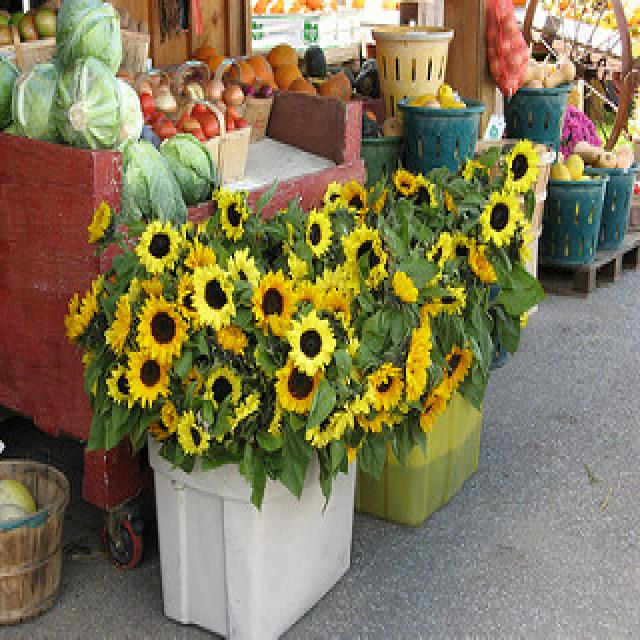sunflower: (326, 224, 394, 288), (132, 298, 188, 362), (250, 272, 306, 336), (188, 259, 238, 328), (130, 216, 184, 275), (122, 347, 172, 408), (474, 192, 526, 248), (294, 310, 336, 374), (502, 136, 544, 197), (170, 411, 224, 458), (210, 186, 252, 242), (198, 368, 244, 419), (362, 365, 412, 411), (300, 208, 336, 259), (442, 344, 474, 400), (390, 162, 419, 210), (336, 178, 370, 218)
